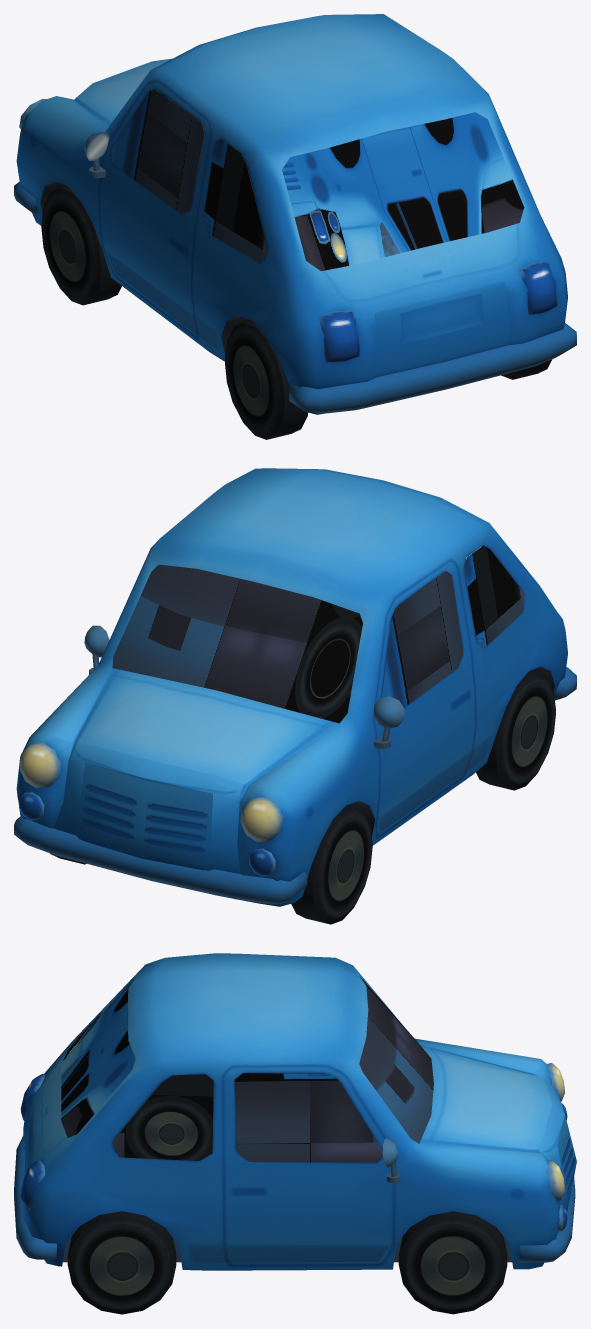
File: car_player.glb
3 views of the same model, one above another, from view 1: azimuth 30°, elevation 25°; view 2: azimuth 150°, elevation 25°; view 3: azimuth 270°, elevation 25° (orthographic). The views are drawn at different scales.
Parts seen in each view (by area): view 1: car002, car00b002, car00l006, car00l005; view 2: car002, car00b002, car00l005, car00l006; view 3: car002, car00b002, Object152, Object153.
Boxes of the visible parts, box(x1,y1,x2,y2) form: car002: box(14, 14, 576, 414); car00b002: box(110, 89, 524, 271); car00l006: box(225, 320, 307, 439); car00l005: box(41, 186, 121, 305); car002: box(14, 468, 576, 906); car00b002: box(112, 545, 524, 723); car00l005: box(291, 805, 372, 924); car00l006: box(476, 671, 555, 790); car002: box(14, 953, 576, 1270); car00b002: box(61, 976, 433, 1162); Object152: box(67, 1211, 176, 1314); Object153: box(398, 1211, 507, 1314).
Bounding box in the file's own units: 2.12 × 1.84 × 3.6.
Materials: 3 (3 with a texture image).
